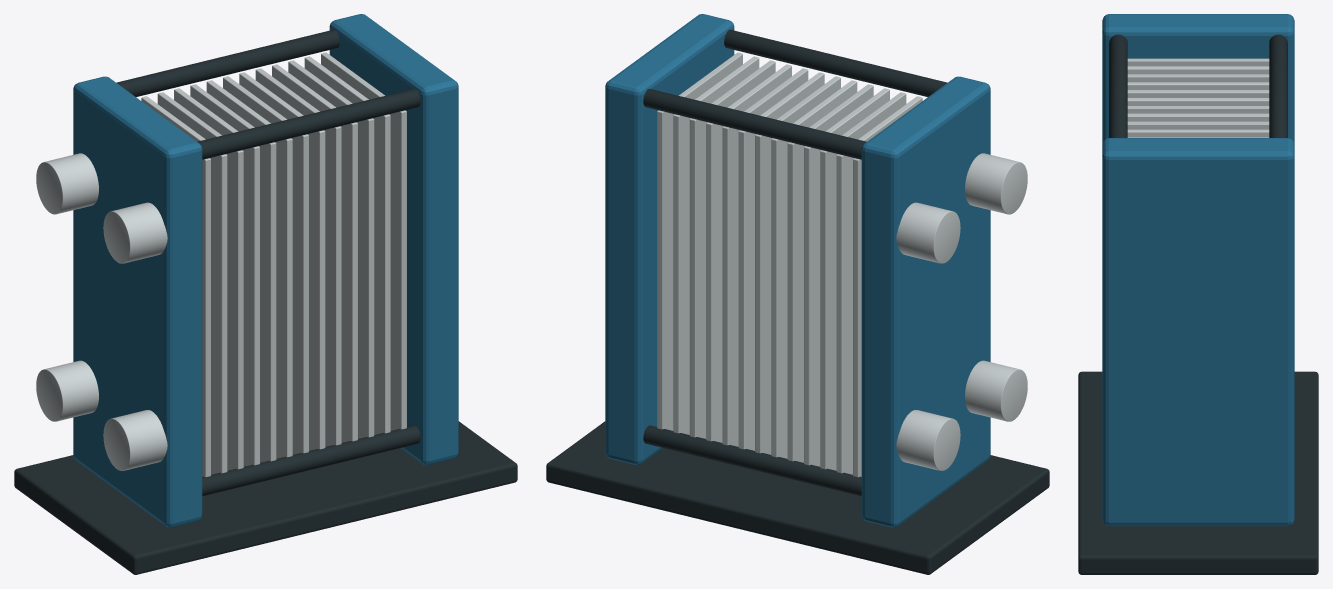
File: plate_frame_heat_exchanger.glb
3 views of the same model, side by side, from view 1: azimuth 30°, elevation 25°; view 2: azimuth 150°, elevation 25°; view 3: azimuth 270°, elevation 25° (orthographic).
Visible parts, largest first — view 1: FIXED_FRAME, BASE, MOVABLE_FRAME, PLATE_5, PLATE_2, PLATE_4, PLATE_8, PLATE_10, PLATE_7, PLATE_11, PLATE_3, PLATE_12 (+11 smaller); view 2: FIXED_FRAME, BASE, MOVABLE_FRAME, PLATE_5, PLATE_2, PLATE_4, PLATE_8, PLATE_10, PLATE_7, PLATE_11, PLATE_3, PLATE_12 (+11 smaller); view 3: MOVABLE_FRAME, BASE, FIXED_FRAME, TOP_BAR_0.3, TOP_BAR_-0.3, PLATE_1, PLATE_2, PLATE_7, PLATE_8, PLATE_0, PLATE_9, PLATE_3 (+3 smaller).
Boxes of the visible parts, x1=… form: FIXED_FRAME: x1=73, y1=76, x2=202, y2=527; BASE: x1=14, y1=421, x2=517, y2=574; MOVABLE_FRAME: x1=329, y1=14, x2=458, y2=464; PLATE_5: x1=206, y1=80, x2=292, y2=458; PLATE_2: x1=157, y1=92, x2=243, y2=470; PLATE_4: x1=190, y1=84, x2=276, y2=462; PLATE_8: x1=255, y1=68, x2=341, y2=446; PLATE_10: x1=288, y1=60, x2=374, y2=438; PLATE_7: x1=239, y1=72, x2=325, y2=450; PLATE_11: x1=304, y1=56, x2=390, y2=434; PLATE_3: x1=174, y1=88, x2=259, y2=466; PLATE_12: x1=321, y1=52, x2=406, y2=430; FIXED_FRAME: x1=861, y1=76, x2=990, y2=527; BASE: x1=546, y1=421, x2=1049, y2=574; MOVABLE_FRAME: x1=605, y1=14, x2=734, y2=464; PLATE_5: x1=771, y1=80, x2=857, y2=458; PLATE_2: x1=820, y1=92, x2=906, y2=470; PLATE_4: x1=787, y1=84, x2=873, y2=462; PLATE_8: x1=722, y1=68, x2=808, y2=446; PLATE_10: x1=689, y1=60, x2=775, y2=438; PLATE_7: x1=738, y1=72, x2=824, y2=450; PLATE_11: x1=673, y1=56, x2=759, y2=434; PLATE_3: x1=804, y1=88, x2=889, y2=466; PLATE_12: x1=657, y1=52, x2=742, y2=430; MOVABLE_FRAME: x1=1102, y1=138, x2=1294, y2=526; BASE: x1=1078, y1=371, x2=1318, y2=574; FIXED_FRAME: x1=1102, y1=14, x2=1294, y2=143; TOP_BAR_0.3: x1=1269, y1=34, x2=1287, y2=137; TOP_BAR_-0.3: x1=1109, y1=34, x2=1127, y2=137; PLATE_1: x1=1127, y1=66, x2=1269, y2=74; PLATE_2: x1=1127, y1=74, x2=1269, y2=82; PLATE_7: x1=1127, y1=113, x2=1269, y2=121; PLATE_8: x1=1127, y1=121, x2=1269, y2=129; PLATE_0: x1=1127, y1=58, x2=1269, y2=66; PLATE_9: x1=1127, y1=129, x2=1269, y2=137; PLATE_3: x1=1127, y1=82, x2=1269, y2=89.
Size of the model in its own units: 1.65 by 1.65 by 0.9.
